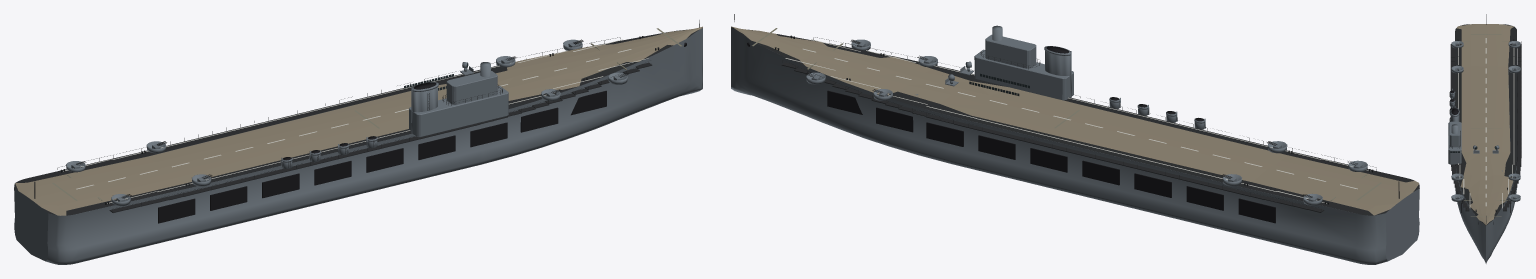
Rendered from independence_lod.glb.
3 renders of one model, left to right at view 1: azimuth 30°, elevation 25°; view 2: azimuth 150°, elevation 25°; view 3: azimuth 270°, elevation 25°, orthographic. The views are drawn at different scales.
Visible parts, largest first — view 1: independence_lod; view 2: independence_lod; view 3: independence_lod.
Boxes of the visible parts, x1=… form: independence_lod: x1=14, y1=20, x2=702, y2=264; independence_lod: x1=731, y1=14, x2=1419, y2=264; independence_lod: x1=1448, y1=14, x2=1521, y2=263.
Bounding box in the file's own units: 190 × 27.99 × 28.27.
